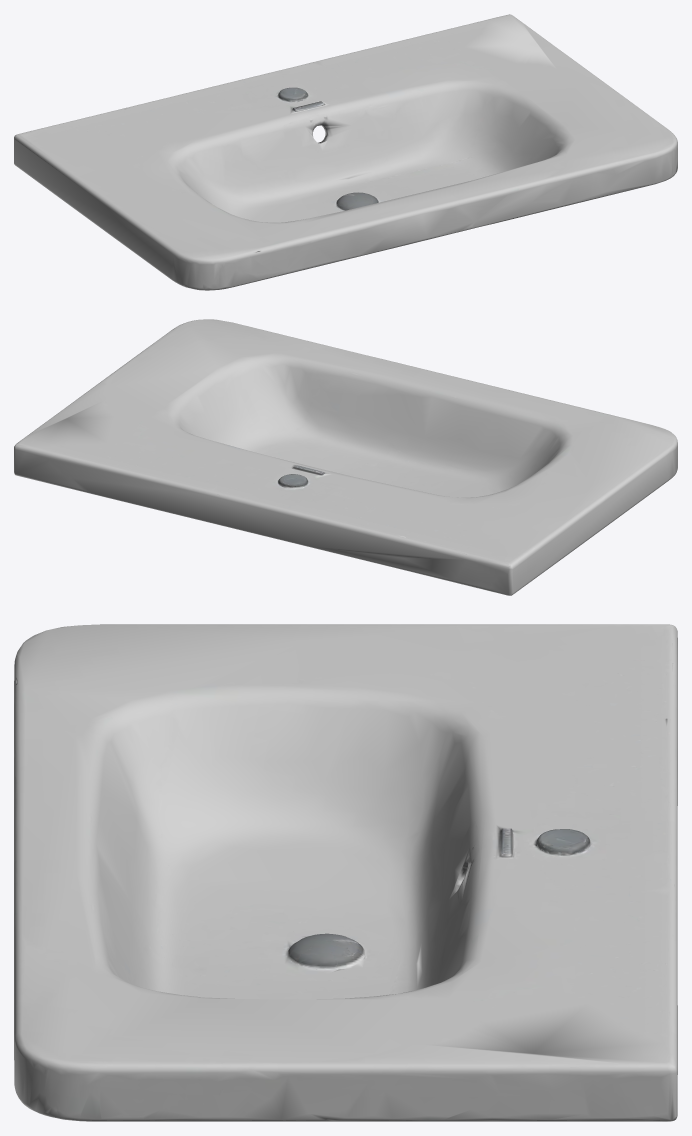
The picture shows the model from 3 angles, top to bottom: view 1: azimuth 30°, elevation 25°; view 2: azimuth 150°, elevation 25°; view 3: azimuth 270°, elevation 25°; orthographic projection. The views are drawn at different scales.
Visible parts, largest first — view 1: node_0; view 2: node_0; view 3: node_0.
Part boxes in pixels (box(x1,y1,x2,y2)): node_0: box(14, 14, 677, 290); node_0: box(14, 319, 677, 595); node_0: box(14, 624, 677, 1121).
Size of the model in its own units: 1.01 by 0.1492 by 0.6401.
Materials: 1 (1 with a texture image).
